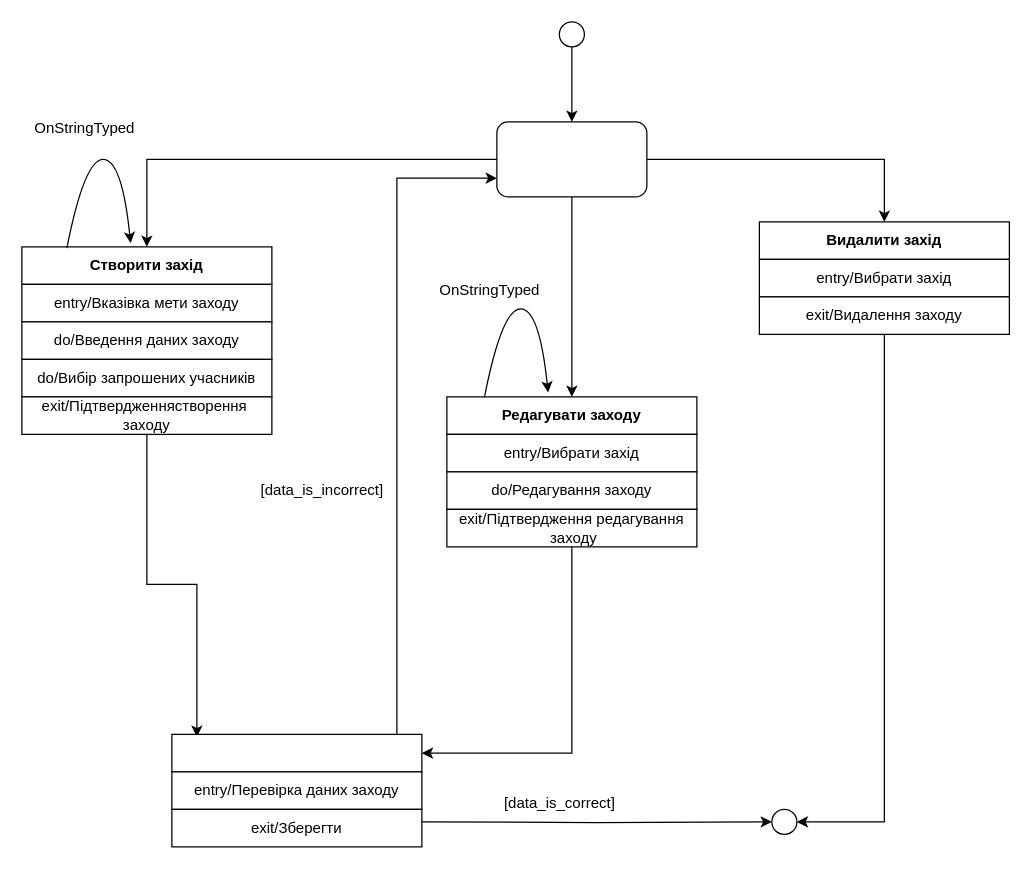
This 1031x869 diagram has some shape labels left out. The shapes that lost their labels are listed below. From the top down, each one's centre as x and y in pixels, then its label:
(x=571, y=159): Оберіть дію
(x=296, y=752): Перевірка даних
